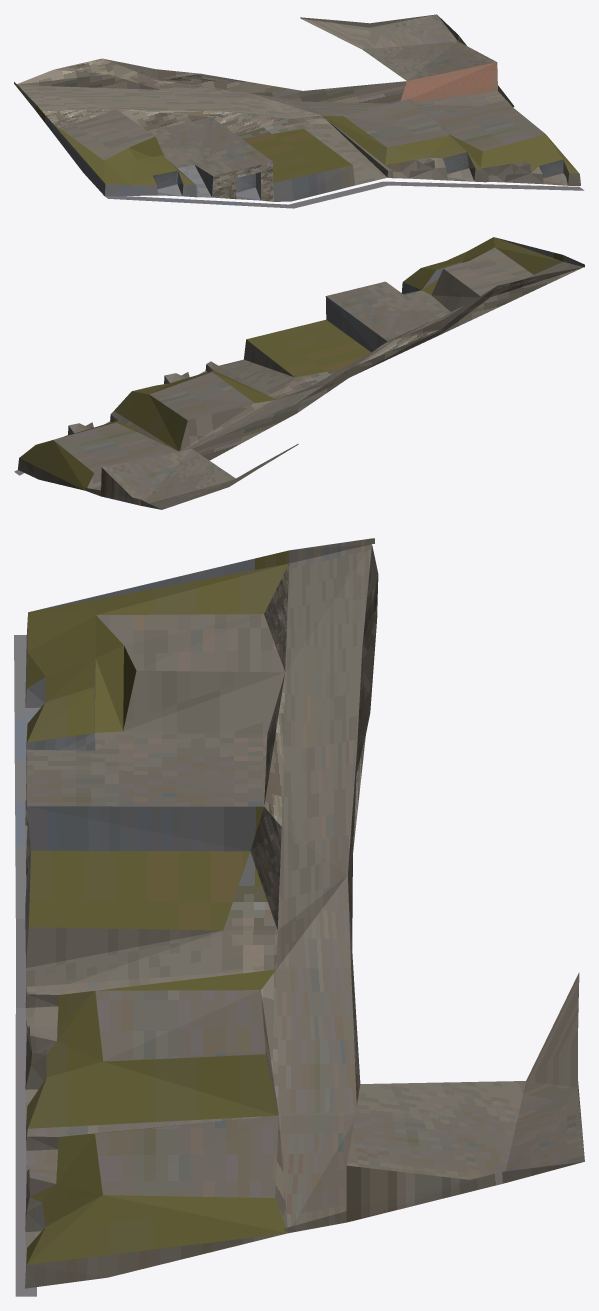
The model's file is lod1barrio04_lae01.obj.
3 renders of one model, top to bottom at view 1: azimuth 30°, elevation 25°; view 2: azimuth 210°, elevation 25°; view 3: azimuth 270°, elevation 25°, orthographic. The views are drawn at different scales.
Parts seen in each view (by area): view 1: LOD1barrio04_LAe01; view 2: LOD1barrio04_LAe01; view 3: LOD1barrio04_LAe01.
Part boxes in pixels (left/top/right/bottom): LOD1barrio04_LAe01: left=14, top=14, right=584, bottom=208; LOD1barrio04_LAe01: left=14, top=237, right=584, bottom=509; LOD1barrio04_LAe01: left=14, top=538, right=584, bottom=1296.
Size of the model in its own units: 100 by 31.9 by 53.48.
1 material, 1 textured.
